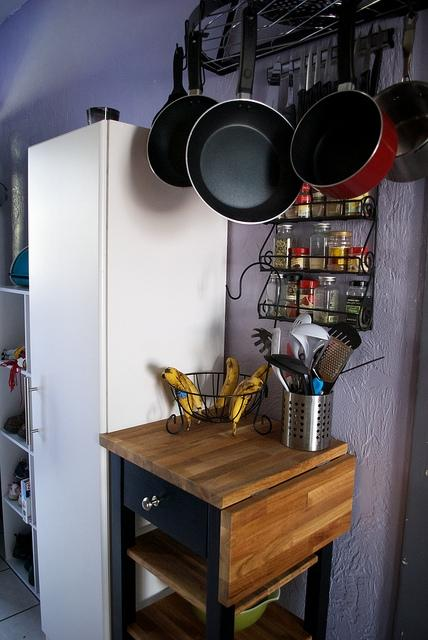banana: (228, 376, 264, 440), (162, 370, 202, 424), (164, 367, 194, 430), (208, 358, 239, 416), (242, 364, 274, 414)
